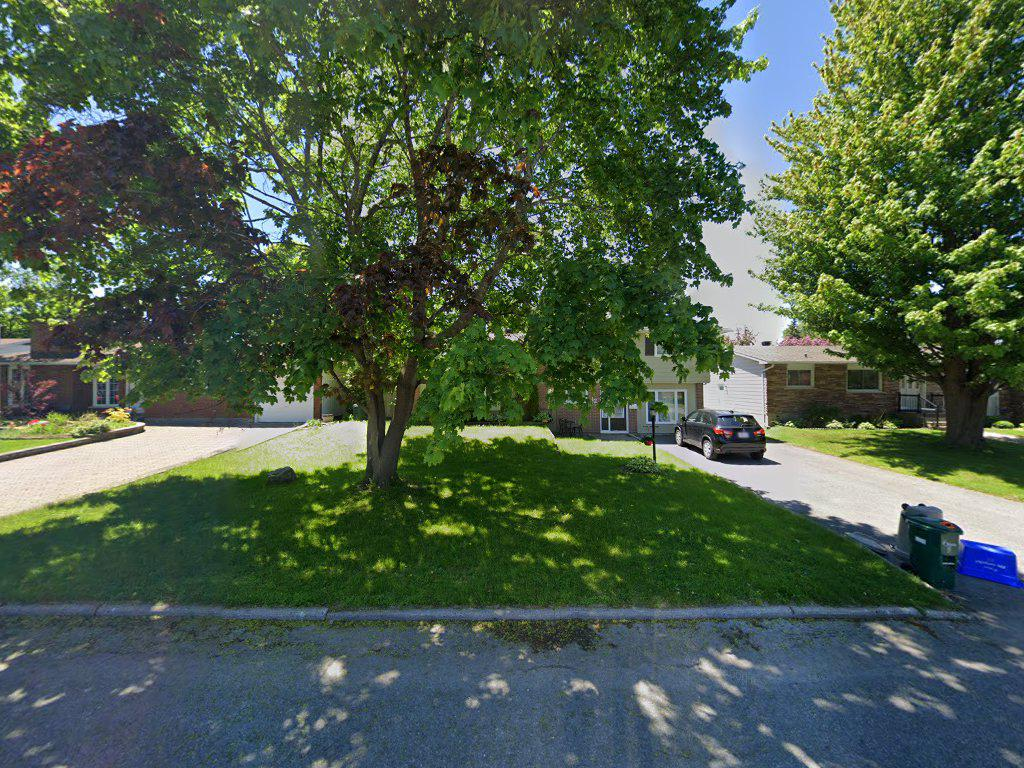trunk: (356, 370, 421, 514), (942, 361, 994, 452)
